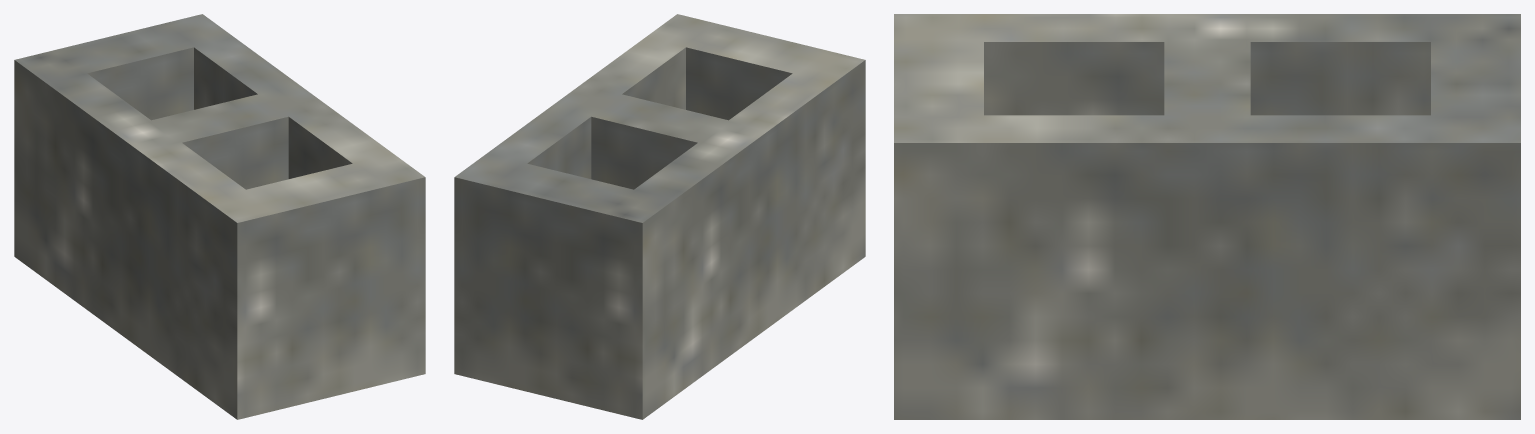
File: cinder_block.fbx
3 renders of one model, left to right at view 1: azimuth 30°, elevation 25°; view 2: azimuth 150°, elevation 25°; view 3: azimuth 270°, elevation 25°, orthographic. The views are drawn at different scales.
Visible parts, largest first — view 1: CinderBlock; view 2: CinderBlock; view 3: CinderBlock.
Boxes of the visible parts, left/top/right/bottom form: CinderBlock: left=14, top=14, right=425, bottom=419; CinderBlock: left=454, top=14, right=865, bottom=419; CinderBlock: left=894, top=14, right=1520, bottom=419.
Bounding box in the file's own units: 19 × 19 × 39.
1 material, 1 textured.
